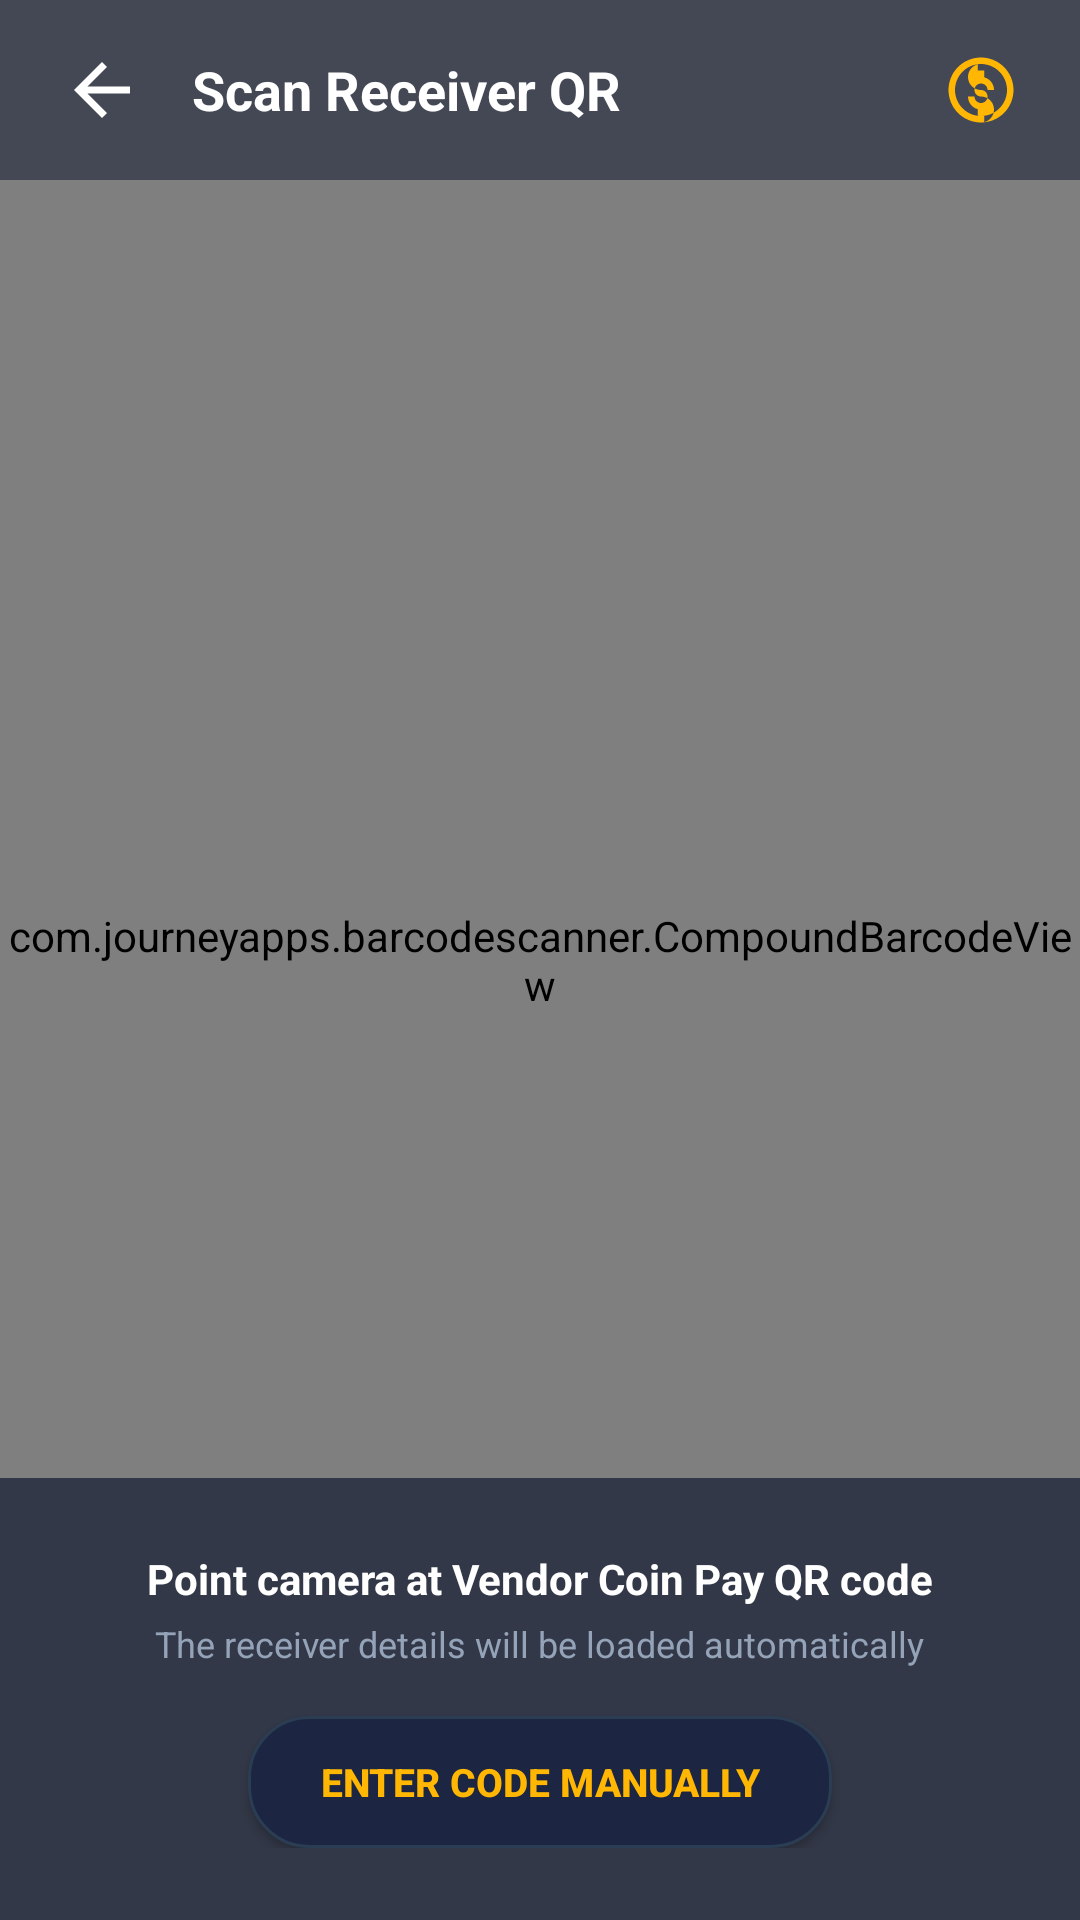

Screen size 1080x1920. Icon name, then its center in pixels as (x=x, y=y):
coin: (x=981, y=90)
